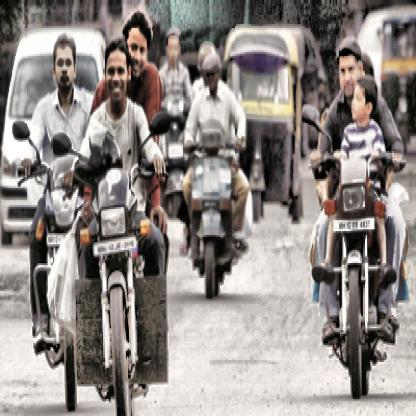not_wear: (128, 16, 153, 76), (349, 73, 375, 127), (106, 42, 127, 108), (340, 40, 362, 99), (55, 37, 76, 94)
